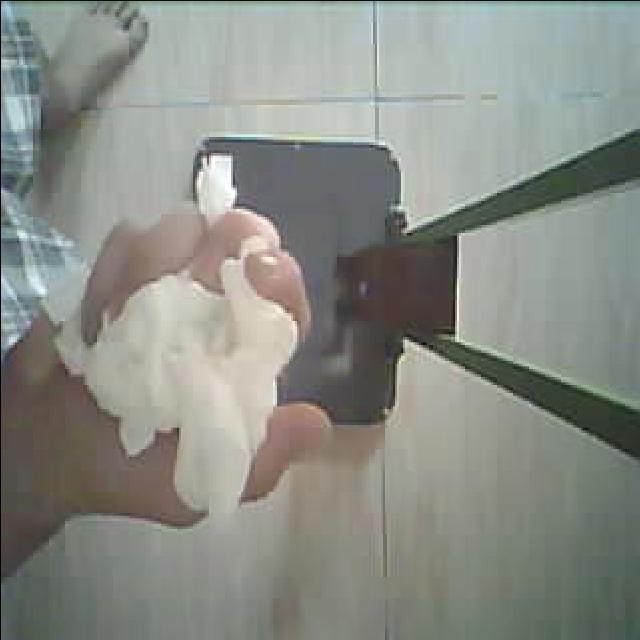Paper: (33, 200, 313, 510)
